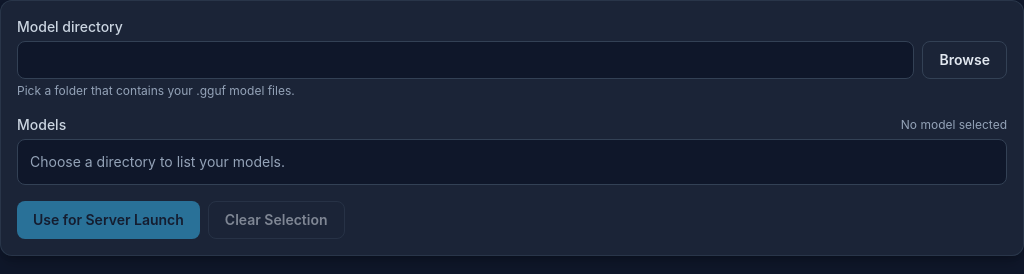
ModelsTab › shows a message for an empty directory
In the field with test id "model-directory": (466, 60) [17, 41, 914, 79], type "/empty"
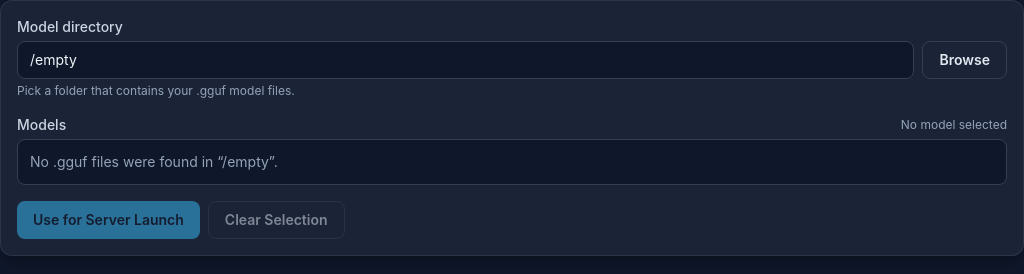
Result: the text with test id "model-list-empty" shows "No .gguf files" at [30, 153, 278, 170]
